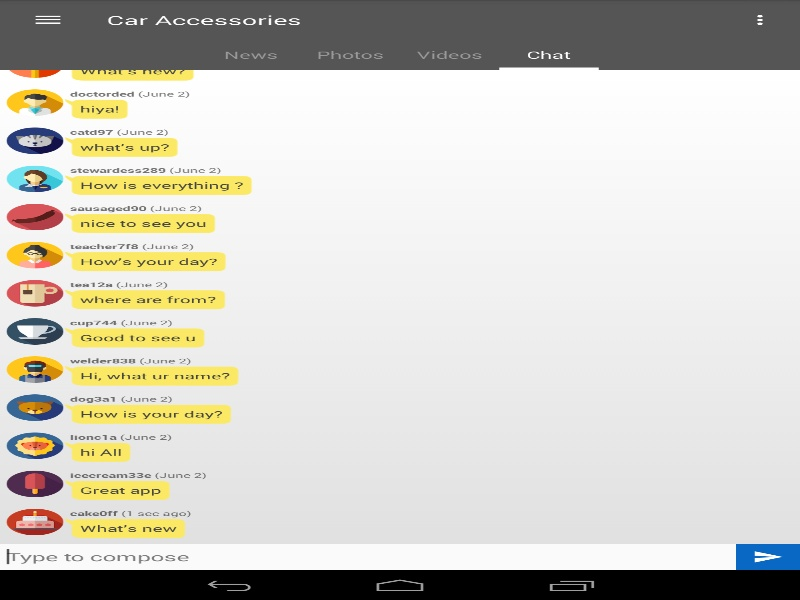Button: (10, 0, 85, 40), (736, 543, 800, 570)
Input: (0, 543, 736, 570)
